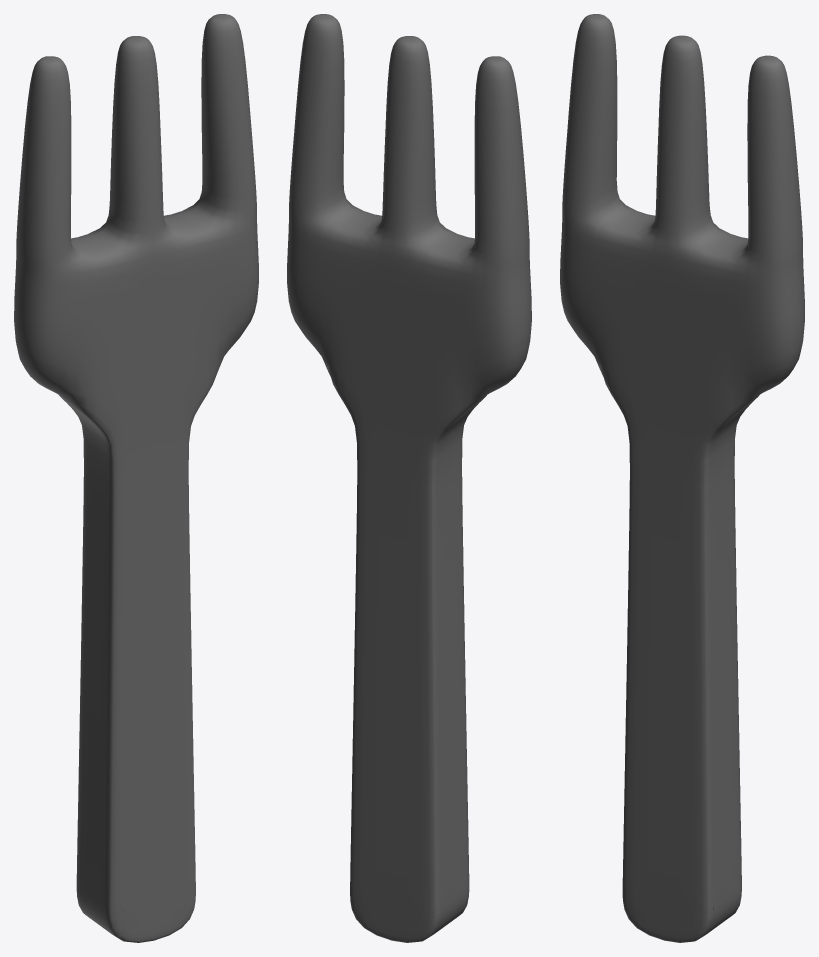
The model's file is Fork.fbx.
3 renders of one model, left to right at view 1: azimuth 30°, elevation 25°; view 2: azimuth 150°, elevation 25°; view 3: azimuth 330°, elevation 25°, orthographic.
Parts seen in each view (by area): view 1: Cube; view 2: Cube; view 3: Cube.
Boxes of the visible parts, x1,y1,x2,y2 form: Cube: [14, 14, 258, 942]; Cube: [287, 14, 531, 942]; Cube: [560, 14, 804, 942].
Bounding box in the file's own units: 152 × 553 × 41.27.
Materials: 1 (1 with a texture image).
